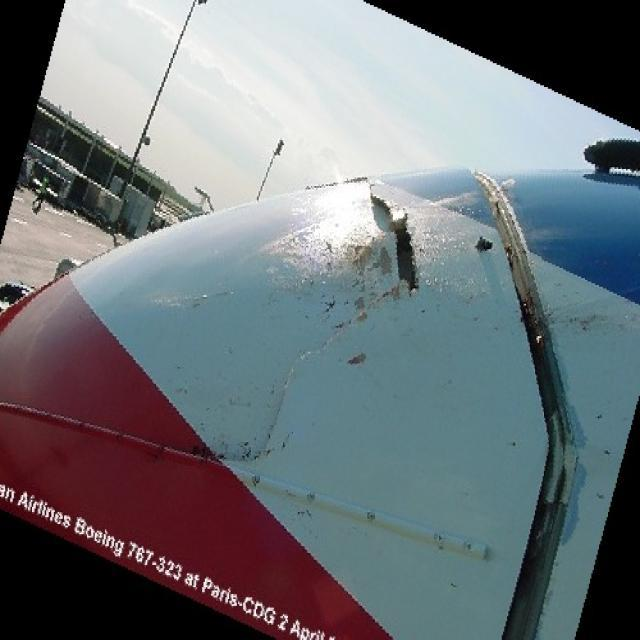crack: (365, 181, 396, 244)
